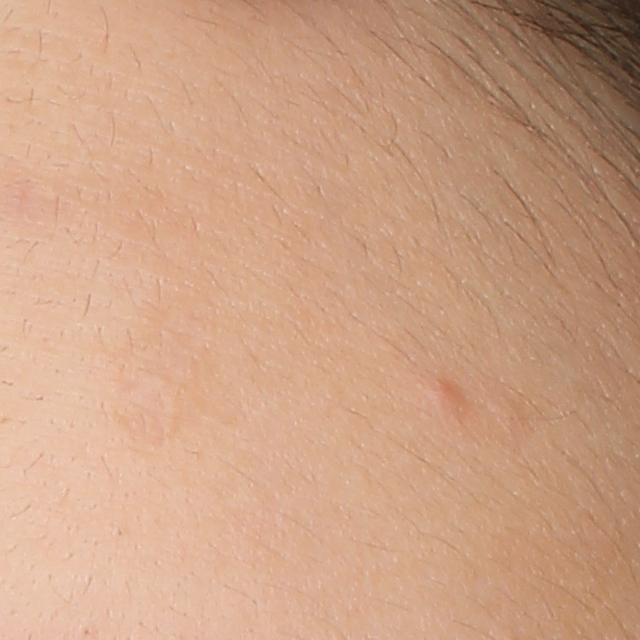papule: (427, 376, 464, 411)
